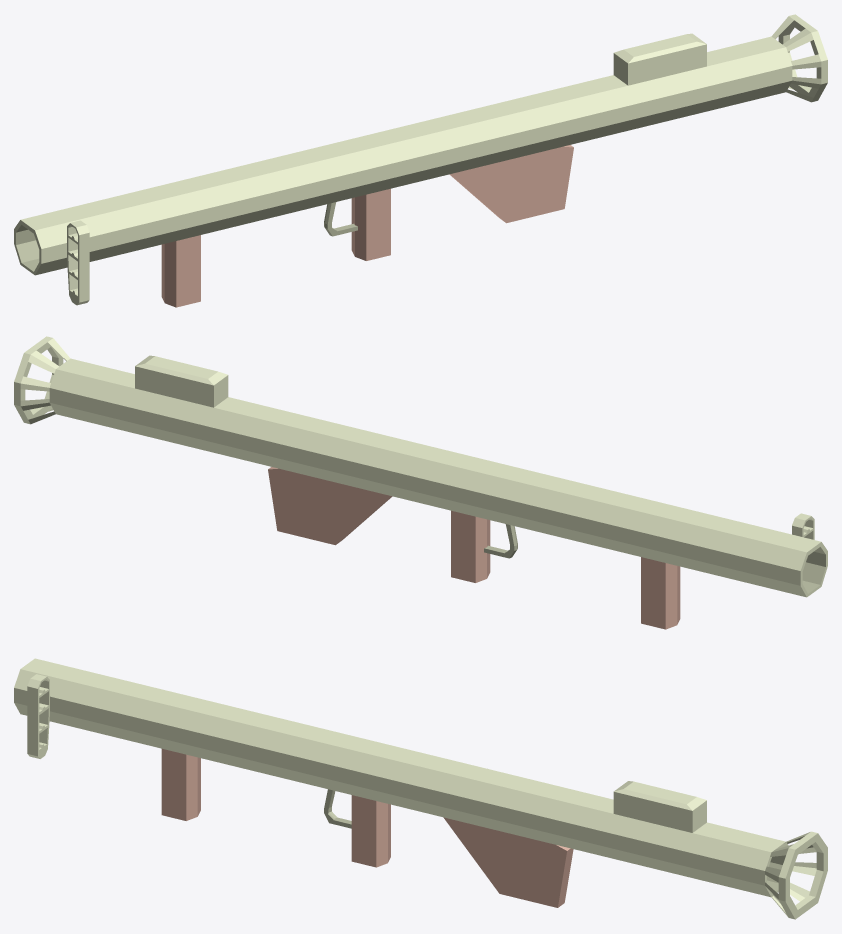
Rendered from Bazooka.fbx.
The picture shows the model from 3 angles, top to bottom: view 1: azimuth 30°, elevation 25°; view 2: azimuth 150°, elevation 25°; view 3: azimuth 330°, elevation 25°; orthographic projection.
Visible parts, largest first — view 1: Bazooka; view 2: Bazooka; view 3: Bazooka.
Part boxes in pixels (box(x1,y1,x2,y2)): Bazooka: box(14, 14, 827, 307); Bazooka: box(14, 336, 827, 629); Bazooka: box(14, 658, 827, 919).
Bounding box in the file's own units: 0.7347 × 0.1233 × 0.0771.
